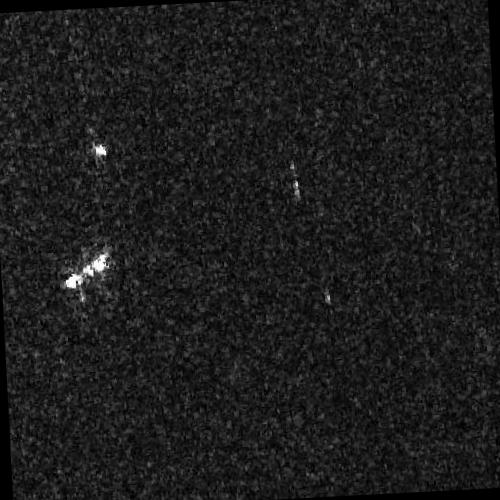ship: (64, 252, 107, 290), (93, 143, 107, 158)
